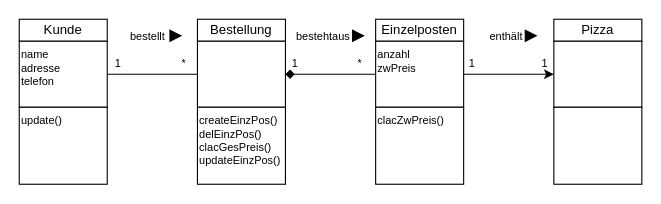
Image size: 661x204. Some labels were removed from this diagram. The shapes that lost their labels are listed below. From the top down, each one's centre as x and y in pixels, then its label:
At point 240,73: "auftrNr datum uhrzeit gesPreis".
At point 597,73: "sorte einzPreis".
